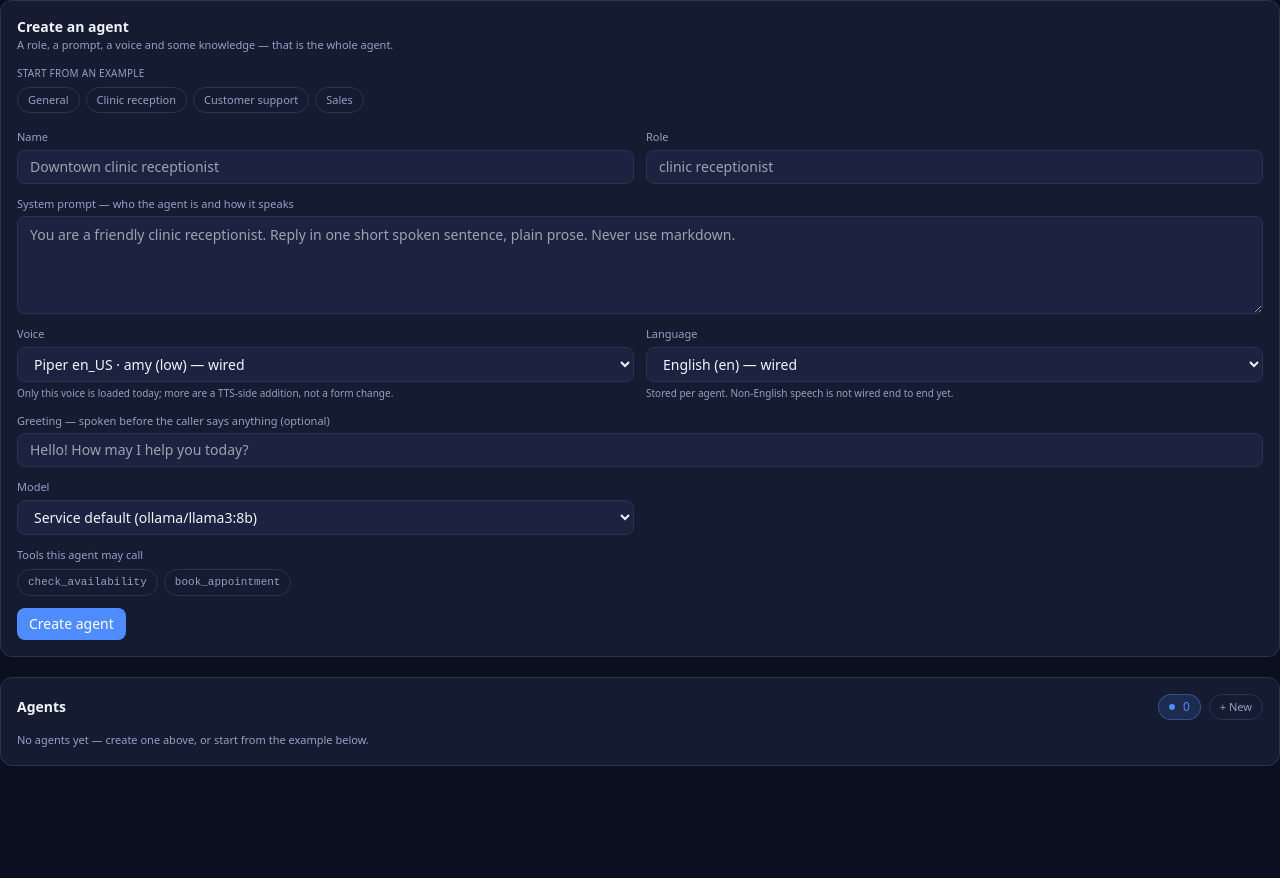
it: AgentBuilder › creates an agent and shows it in the list
Expected: the text "No agents yet" is shown, [17, 732, 369, 747]
Type "Sales SDR" into the field with test id "agent-name" at (326, 166), box [17, 150, 634, 184]
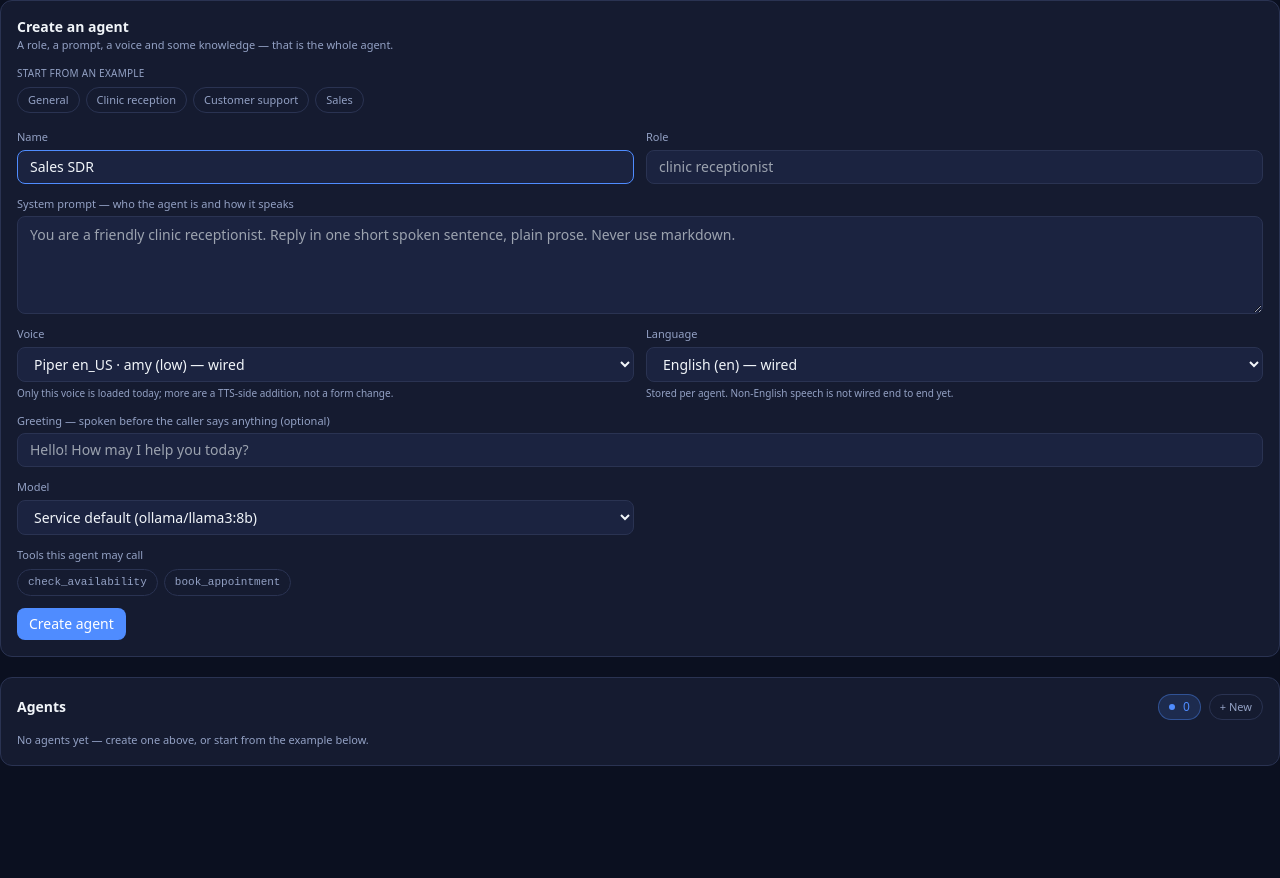
Type "sales development" into the field with test id "agent-role" at (954, 166), box [646, 150, 1263, 184]
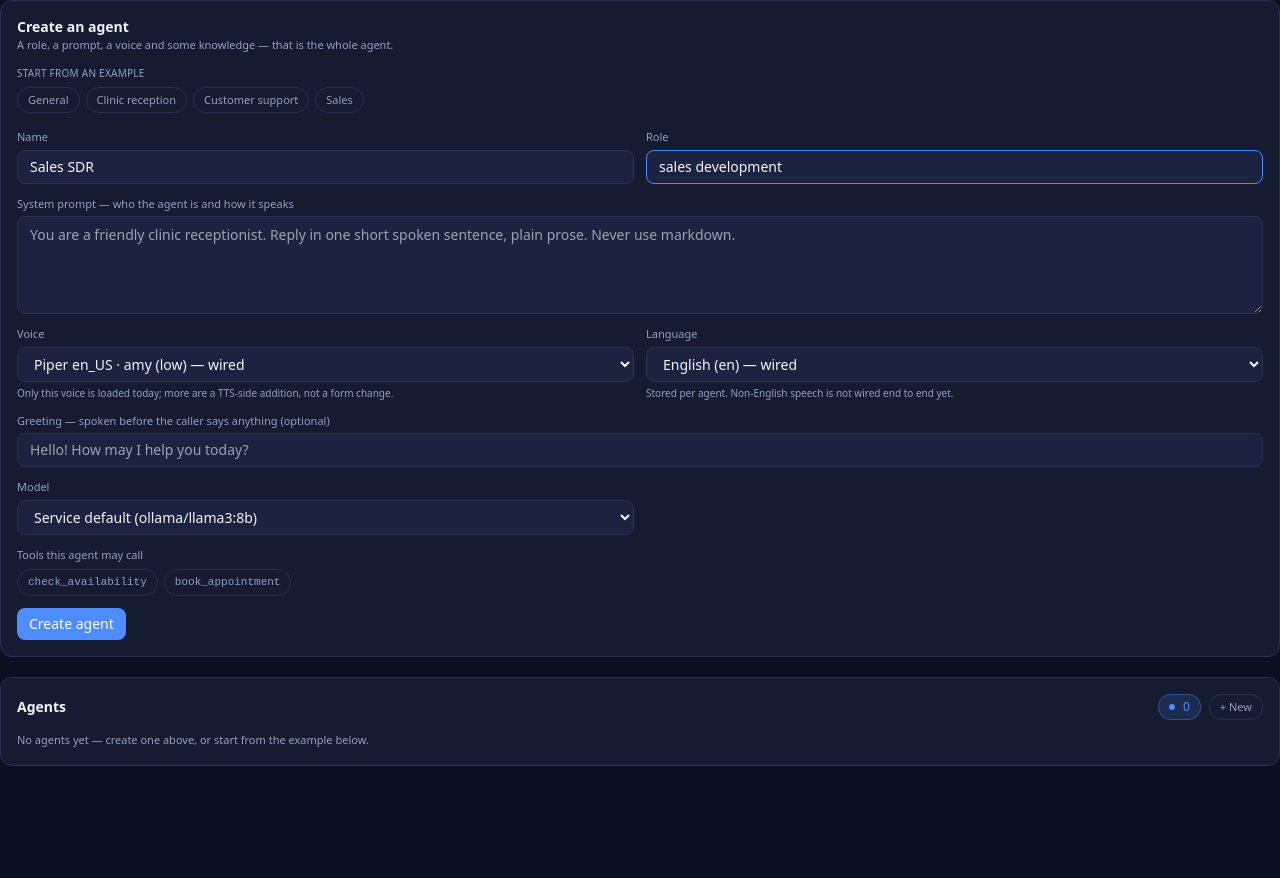
Click the button with test id "save-agent" at (71, 624), box [17, 608, 126, 640]
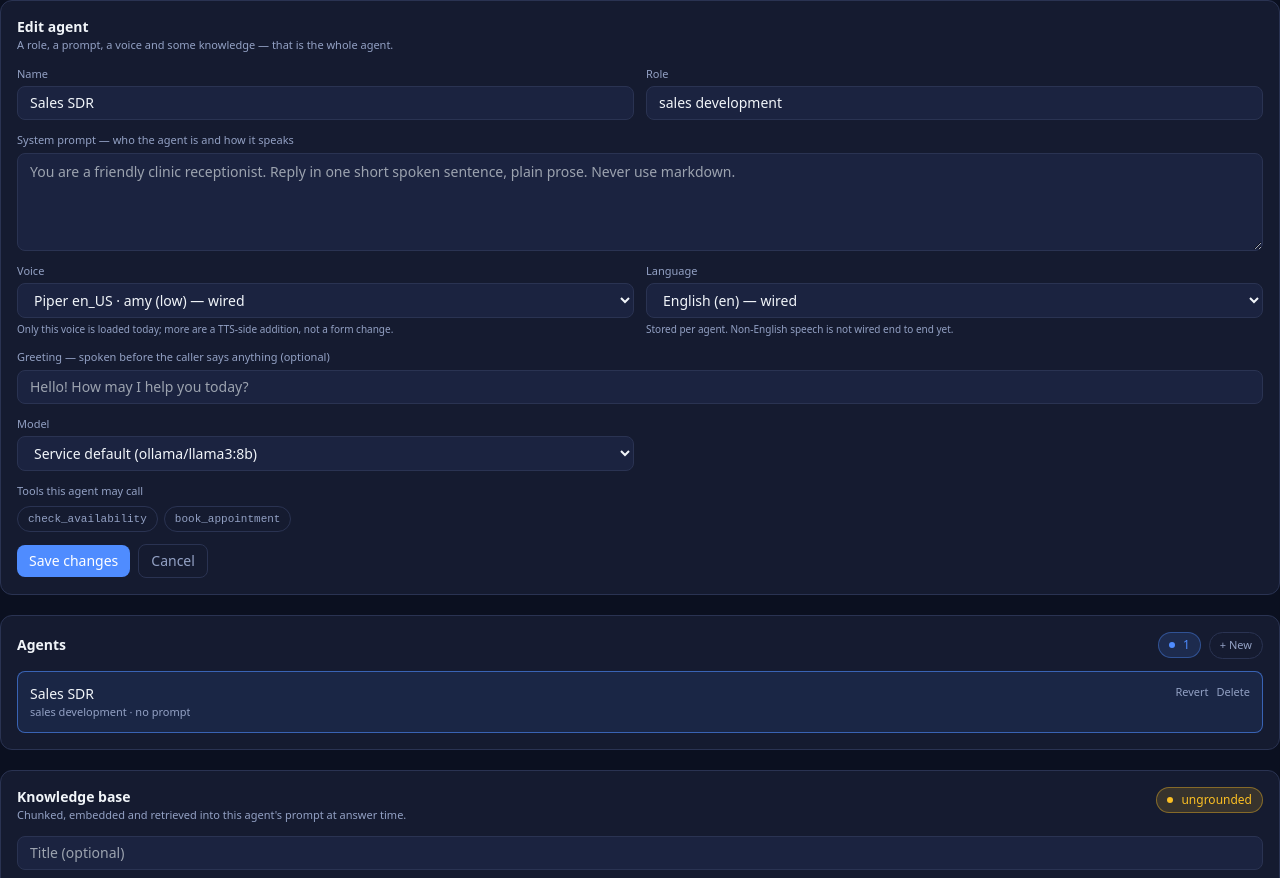
Result: the text "Sales SDR" is shown at [30, 684, 94, 702]
